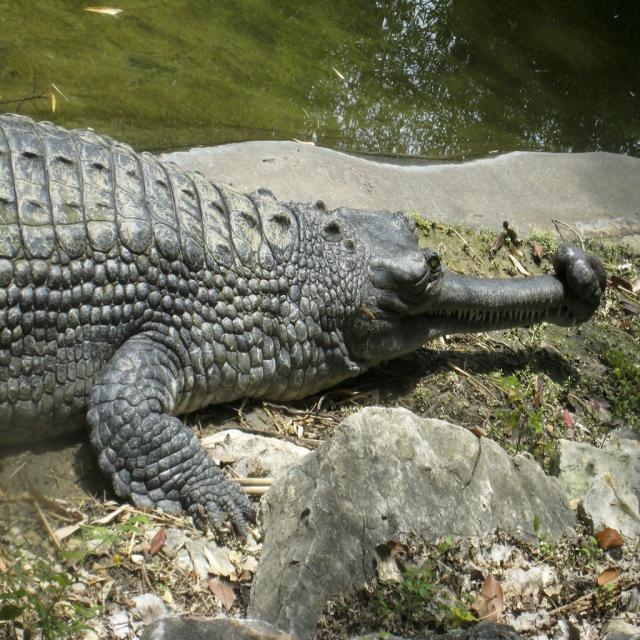crocodile: (1, 106, 611, 528)
